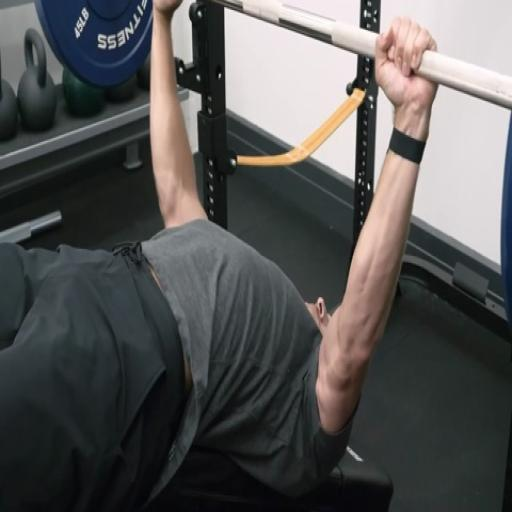exercise: (0, 0, 443, 511)
